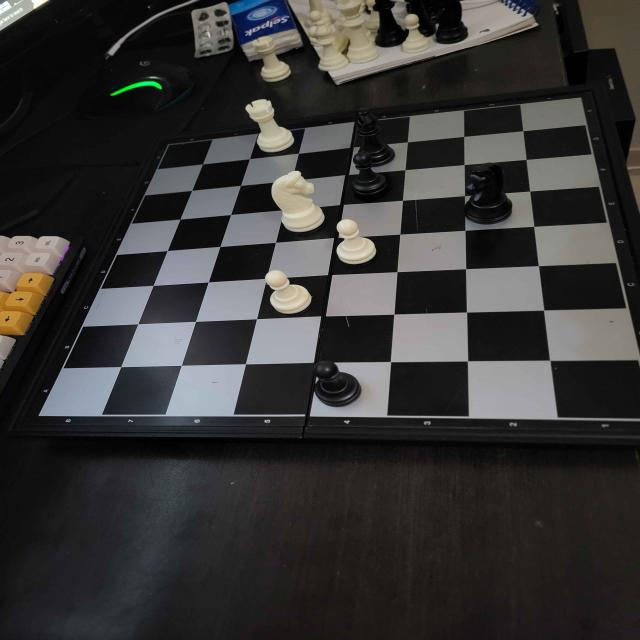black-bishop: (352, 106, 396, 167)
black-knight: (457, 160, 514, 227)
black-pawn: (309, 357, 363, 409), (348, 151, 390, 199)
chess-board: (40, 131, 640, 429)
white-bishop: (314, 20, 348, 72)
white-knight: (268, 169, 328, 234)
white-pawn: (262, 269, 315, 315), (331, 218, 380, 266), (402, 14, 431, 54)
white-rook: (244, 97, 296, 153), (251, 34, 294, 85)
